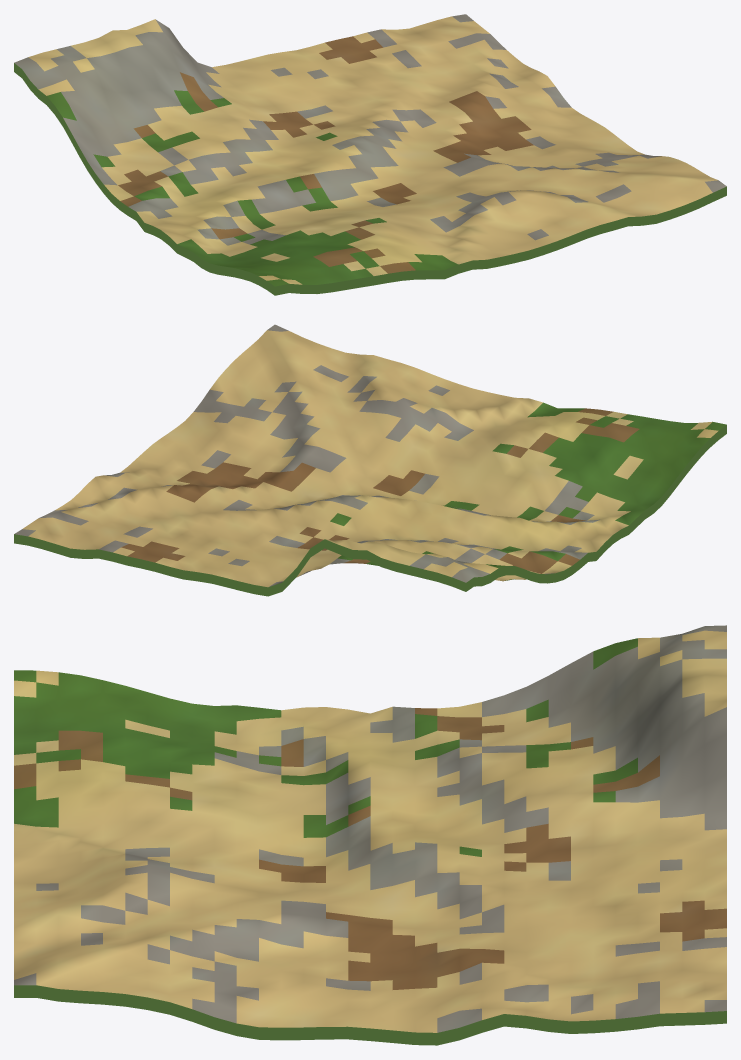
The model's file is chunk_6_7_lod1.glb.
3 views of the same model, one above another, from view 1: azimuth 30°, elevation 25°; view 2: azimuth 150°, elevation 25°; view 3: azimuth 270°, elevation 25° (orthographic). The views are drawn at different scales.
Visible parts, largest first — view 1: Surface_Sand, Surface_Gravel, Surface_Grass, Surface_Dirt, Skirt; view 2: Surface_Sand, Surface_Gravel, Surface_Grass, Surface_Dirt, Skirt; view 3: Surface_Sand, Surface_Gravel, Surface_Grass, Surface_Dirt, Skirt.
Boxes of the visible parts, x1,y1,x2,y2 form: Surface_Sand: [28, 16, 717, 284]; Surface_Gravel: [14, 14, 726, 245]; Surface_Grass: [47, 90, 458, 286]; Surface_Dirt: [118, 36, 533, 273]; Skirt: [14, 63, 726, 295]; Surface_Sand: [22, 330, 718, 587]; Surface_Gravel: [14, 324, 599, 586]; Surface_Grass: [330, 402, 726, 580]; Surface_Dirt: [121, 408, 639, 573]; Skirt: [14, 425, 726, 596]; Surface_Sand: [14, 630, 726, 1032]; Surface_Gravel: [14, 625, 726, 1032]; Surface_Grass: [14, 638, 637, 856]; Surface_Dirt: [14, 708, 726, 989]; Skirt: [14, 985, 726, 1045].
Bounding box in the file's own units: 256 × 52.04 × 256.
